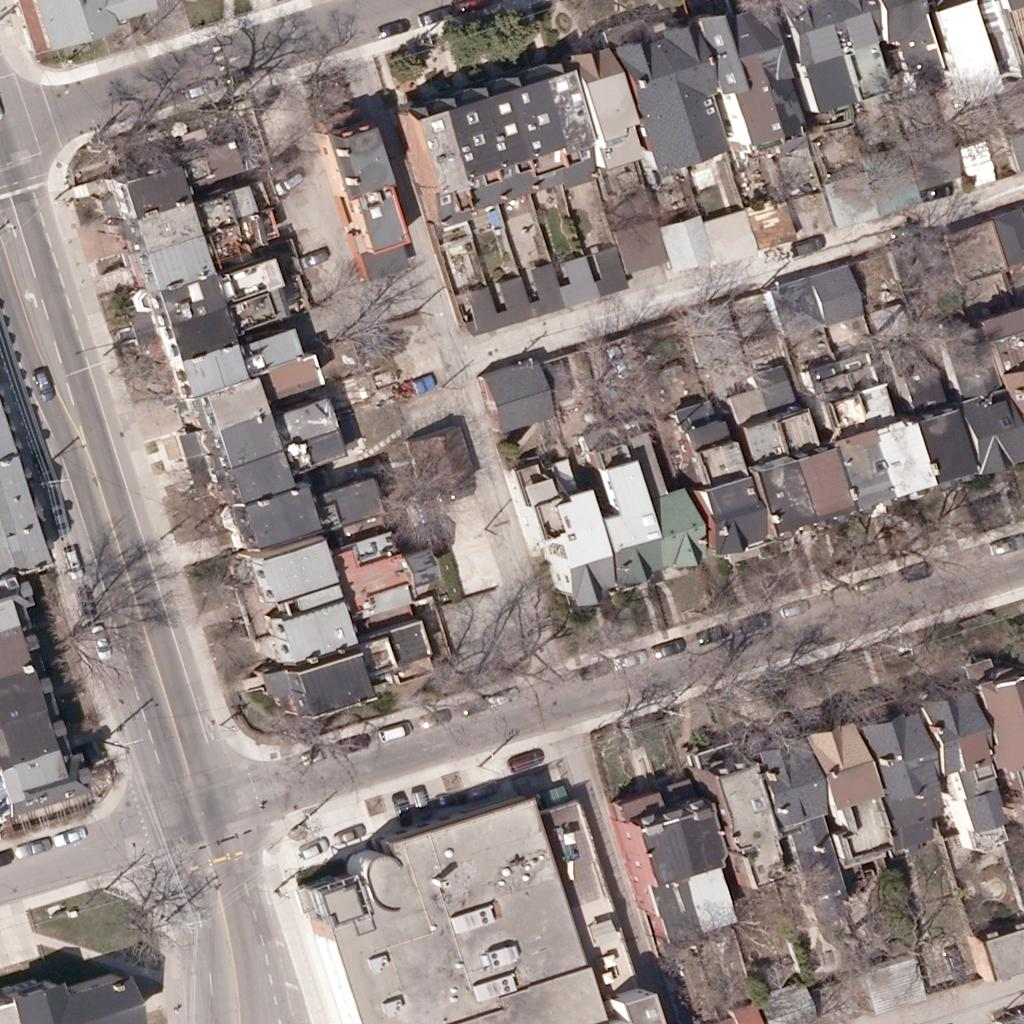car: (375, 12, 409, 46), (184, 73, 218, 107), (269, 140, 303, 174), (273, 163, 307, 197), (920, 174, 954, 208), (889, 214, 923, 248), (792, 228, 826, 262), (298, 240, 332, 274), (603, 346, 637, 380), (25, 364, 59, 398), (398, 368, 432, 402), (40, 501, 74, 535), (988, 527, 1022, 561), (54, 543, 88, 577), (899, 552, 933, 586), (851, 567, 885, 601), (69, 587, 103, 621), (777, 590, 811, 624), (738, 605, 772, 639), (696, 614, 730, 648), (85, 625, 119, 659), (651, 632, 685, 666), (612, 644, 646, 678), (580, 651, 614, 685), (482, 680, 516, 714), (455, 689, 489, 723), (418, 703, 452, 737), (376, 716, 410, 750), (334, 727, 368, 761), (297, 739, 331, 773), (509, 743, 543, 777), (464, 774, 498, 808), (431, 782, 465, 816), (403, 783, 437, 817), (385, 791, 419, 825), (330, 818, 364, 852), (55, 819, 89, 853), (19, 831, 53, 865), (293, 834, 327, 868), (937, 945, 971, 979), (455, 0, 489, 21)
